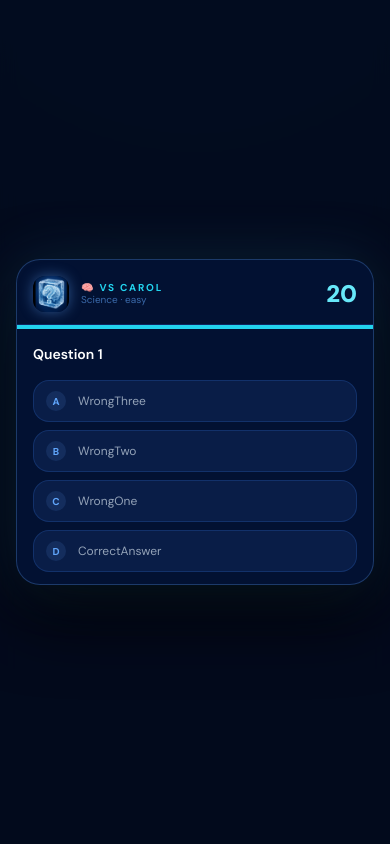
Test: BrainFreezeModal – points animation key › pts element remounts between questions even when API returns 0 pts (wrong answers)
This screenshot has width=390, height=844.
Expected: the text "Question 1" is shown, x1=33 y1=345 x2=103 y2=363
Step 1. Click the text "WrongOne" → (108, 501), box x1=78 y1=493 x2=137 y2=509
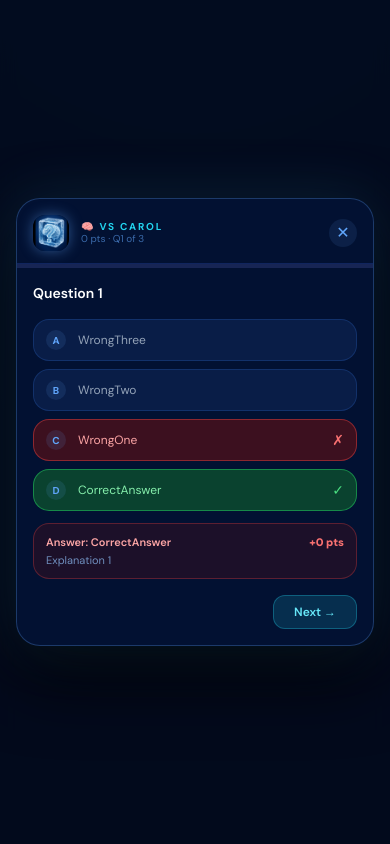
Expected: the text "+0 pts" is shown, x1=309 y1=534 x2=344 y2=551
Step 2. Click the button "Next →" → (315, 612), box x1=273 y1=595 x2=357 y2=629
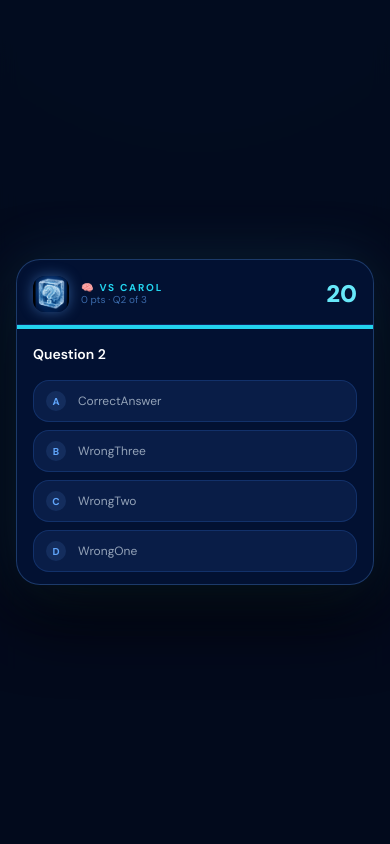
Expected: the text "Question 2" is shown, x1=33 y1=345 x2=106 y2=363
Step 3. Click the text "WrongOne" → (108, 551), box x1=78 y1=543 x2=137 y2=559
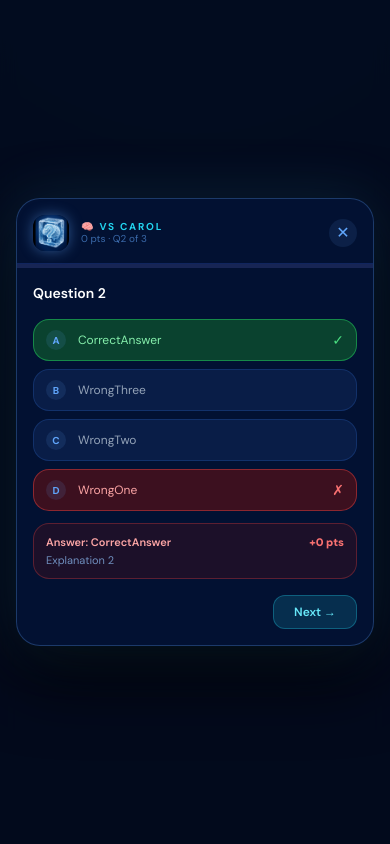
Expected: the text "+0 pts" is shown, x1=309 y1=534 x2=344 y2=551
